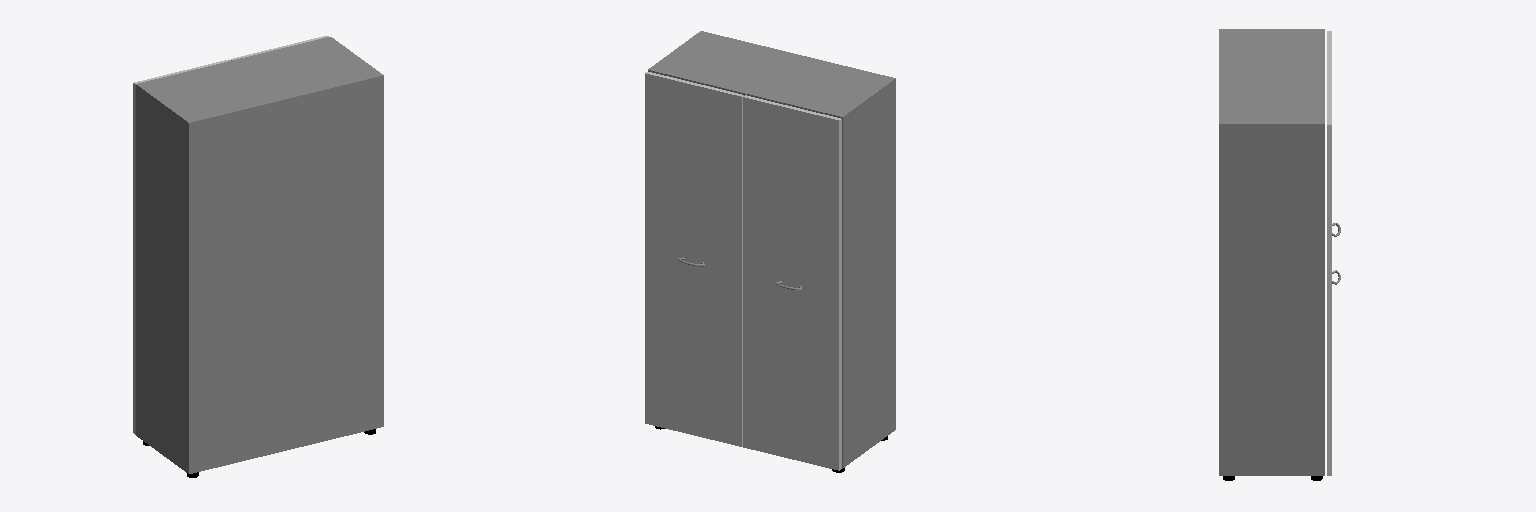
The model's file is Cabinet.obj.
The picture shows the model from 3 angles: view 1: azimuth 30°, elevation 25°; view 2: azimuth 150°, elevation 25°; view 3: azimuth 270°, elevation 25°; orthographic projection.
Visible parts, largest first — view 1: Box_1_1, Door1_3_3; view 2: Door1_3_3, Door2_4_4, Box_1_1; view 3: Box_1_1, Door2_4_4.
Boxes of the visible parts, <box> form: Box_1_1: <box>136,37,383,473</box>; Door1_3_3: <box>133,59,230,434</box>; Door1_3_3: <box>743,95,841,470</box>; Door2_4_4: <box>645,72,743,446</box>; Box_1_1: <box>648,31,895,468</box>; Box_1_1: <box>1219,29,1324,475</box>; Door2_4_4: <box>1327,78,1331,475</box>.
Bounding box in the file's own units: 90.02 × 158 × 48.78.